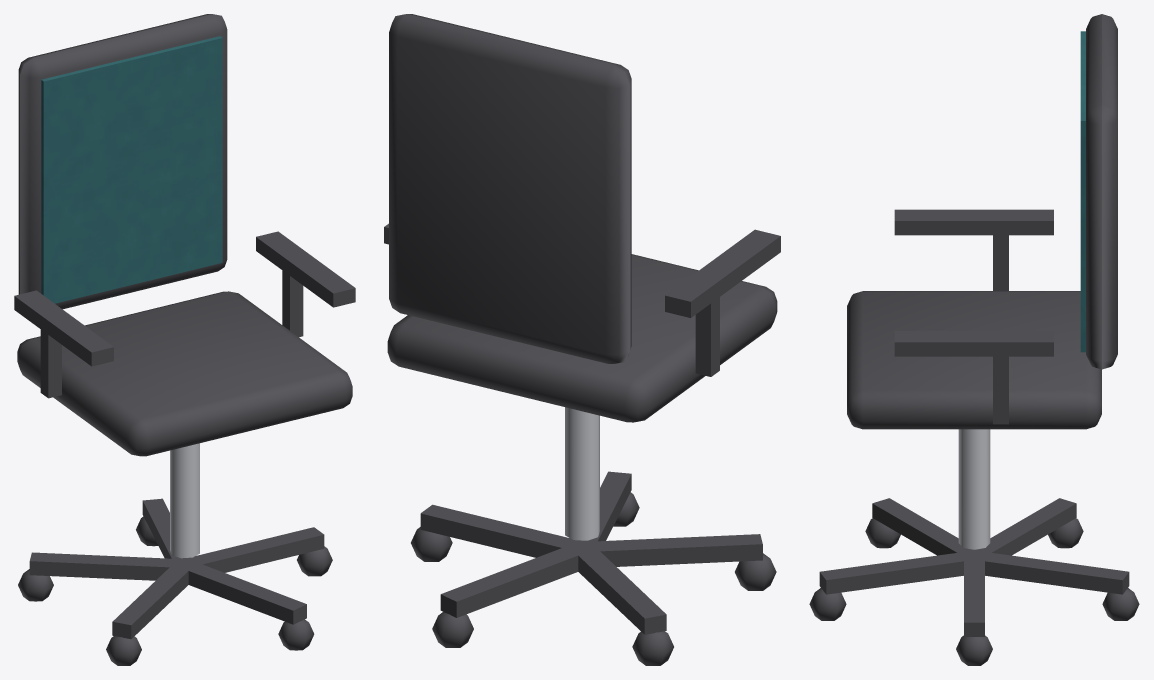
The picture shows the model from 3 angles, left to right: view 1: azimuth 30°, elevation 25°; view 2: azimuth 150°, elevation 25°; view 3: azimuth 270°, elevation 25°; orthographic projection. The views are drawn at different scales.
Parts seen in each view (by area): view 1: Decor_office_chair; view 2: Decor_office_chair; view 3: Decor_office_chair.
Part boxes in pixels (box(x1,y1,x2,y2)): Decor_office_chair: box(14, 14, 355, 665); Decor_office_chair: box(384, 14, 780, 665); Decor_office_chair: box(809, 14, 1139, 665).
Bounding box in the file's own units: 0.6153 × 1.12 × 0.6216.
3 materials, 1 textured.
